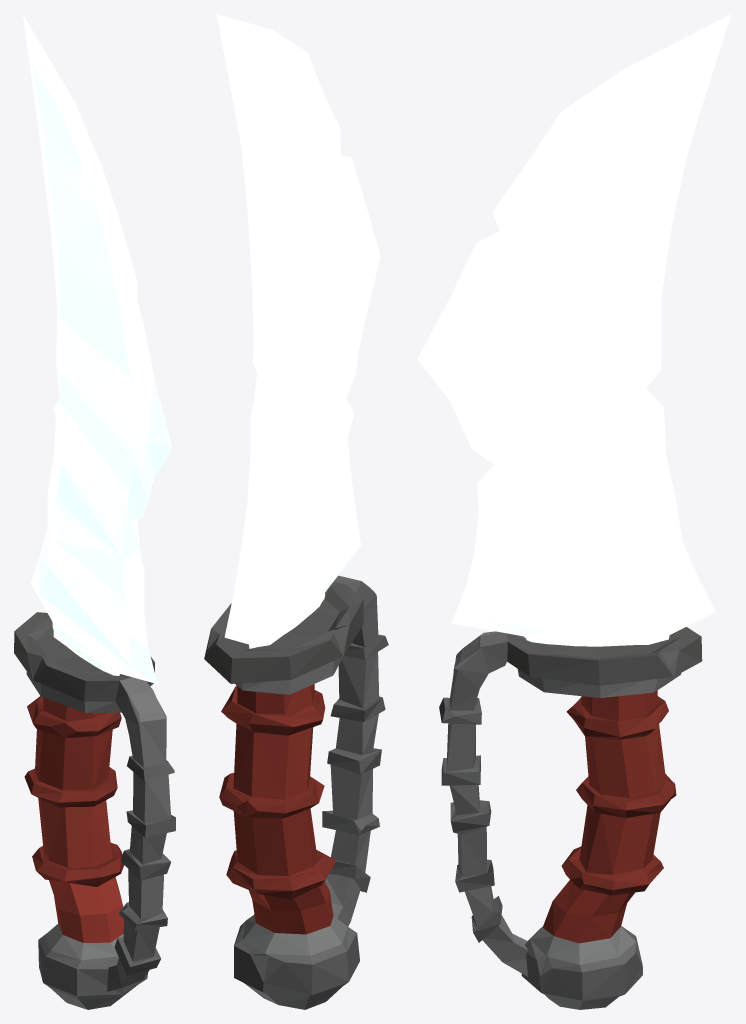
The model's file is SFFA_Weapon_Knife_Runical_003.fbx.
3 views of the same model, side by side, from view 1: azimuth 30°, elevation 25°; view 2: azimuth 150°, elevation 25°; view 3: azimuth 270°, elevation 25° (orthographic). The views are drawn at different scales.
Visible parts, largest first — view 1: SFFA_Weapon_Knife_Runical_003; view 2: SFFA_Weapon_Knife_Runical_003; view 3: SFFA_Weapon_Knife_Runical_003.
Boxes of the visible parts, x1,y1,x2,y2 form: SFFA_Weapon_Knife_Runical_003: (14,15,175,1009); SFFA_Weapon_Knife_Runical_003: (204,14,388,1009); SFFA_Weapon_Knife_Runical_003: (417,14,731,1009).
Size of the model in its own units: 5.34 by 45.99 by 13.27.
